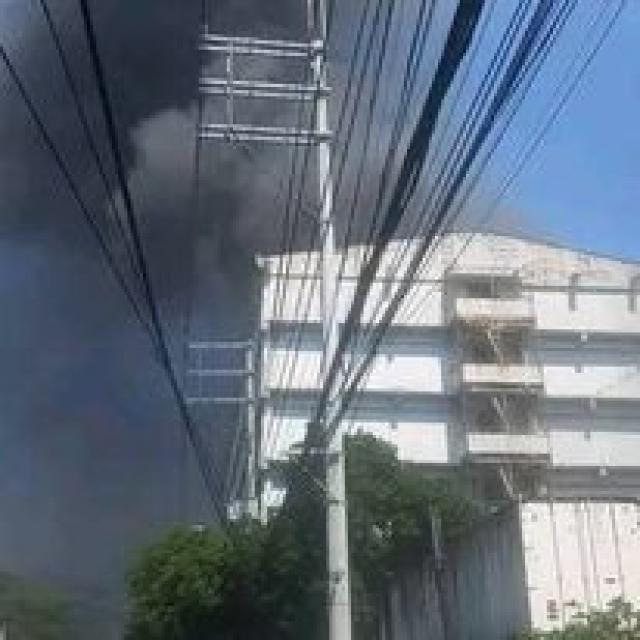Smoke: (0, 0, 398, 252), (9, 259, 176, 583)
